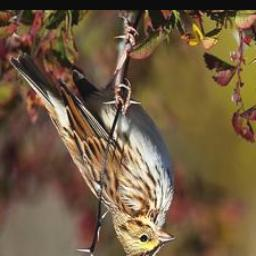Sparrow: (8, 50, 175, 256)
